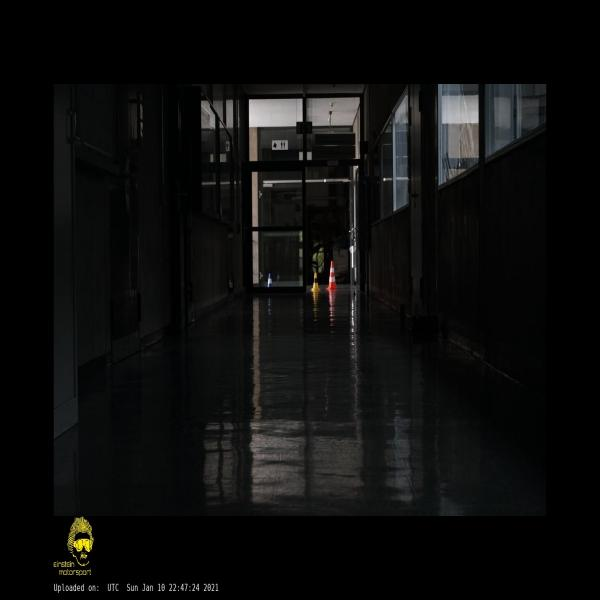blue_cone: (268, 273, 272, 287)
large_orange_cone: (326, 261, 338, 291)
yellow_cone: (310, 272, 320, 292)
